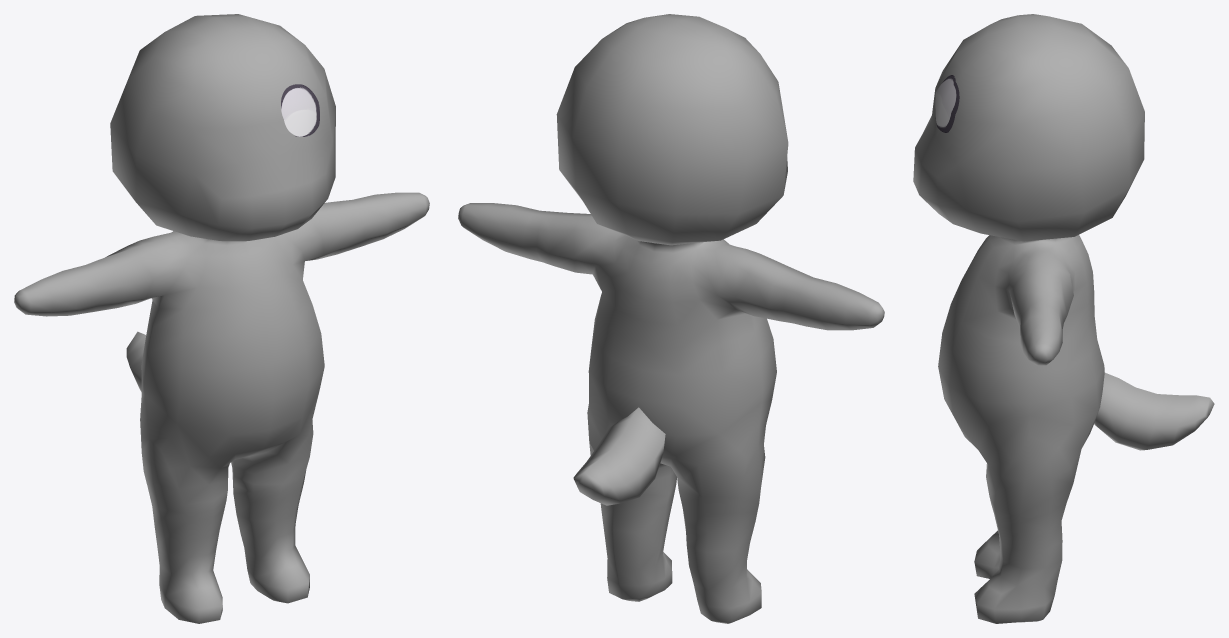
The model's file is Short.fbx.
3 views of the same model, side by side, from view 1: azimuth 30°, elevation 25°; view 2: azimuth 150°, elevation 25°; view 3: azimuth 270°, elevation 25° (orthographic). The views are drawn at different scales.
Parts seen in each view (by area): view 1: RIG:ShortBody_Low, RIG:ShortEye_L, RIG:ShortTail_Low; view 2: RIG:ShortBody_Low, RIG:ShortTail_Low; view 3: RIG:ShortBody_Low, RIG:ShortTail_Low, RIG:ShortEye_L.
Boxes of the visible parts, <box> form: RIG:ShortBody_Low: <box>14,14,429,623</box>; RIG:ShortEye_L: <box>281,84,319,136</box>; RIG:ShortTail_Low: <box>126,331,146,391</box>; RIG:ShortBody_Low: <box>458,14,884,623</box>; RIG:ShortTail_Low: <box>573,407,665,505</box>; RIG:ShortBody_Low: <box>913,14,1144,623</box>; RIG:ShortTail_Low: <box>1094,372,1214,450</box>; RIG:ShortEye_L: <box>935,75,959,132</box>.
Size of the model in its own units: 138 by 182 by 86.97.
Materials: 2 (1 with a texture image).
